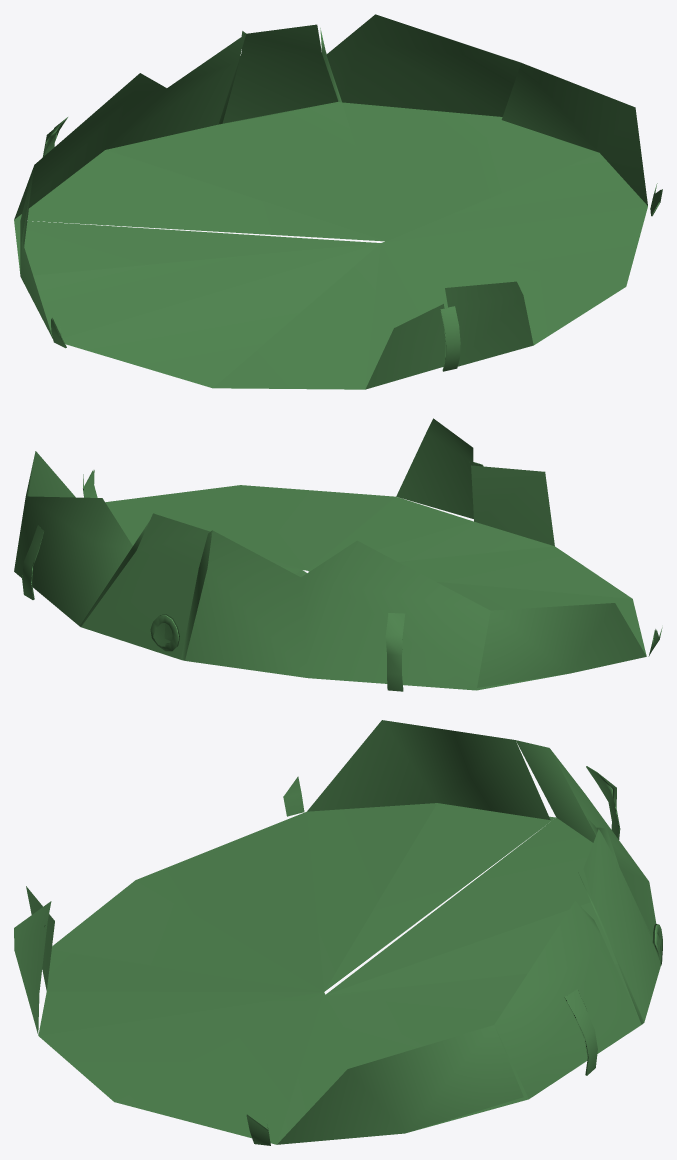
The model's file is hip.glb.
3 views of the same model, one above another, from view 1: azimuth 30°, elevation 25°; view 2: azimuth 150°, elevation 25°; view 3: azimuth 270°, elevation 25° (orthographic). The views are drawn at different scales.
Parts seen in each view (by area): view 1: shorts-green_HIP; view 2: shorts-green_HIP; view 3: shorts-green_HIP.
Part boxes in pixels (x1,y1,x2,y2): shorts-green_HIP: (14,14,662,389); shorts-green_HIP: (14,418,662,691); shorts-green_HIP: (14,720,662,1145).
Size of the model in its own units: 0.4255 by 0.1104 by 0.3344.
Materials: 1 (1 with a texture image).
